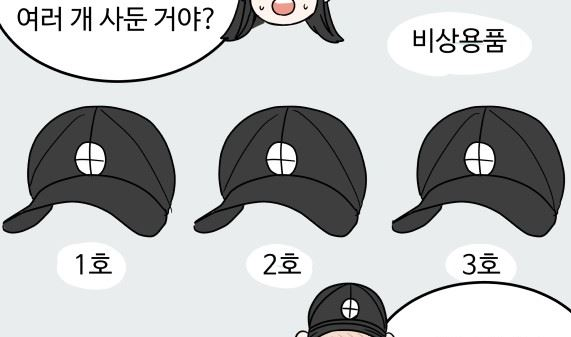hat: (3, 105, 175, 239), (307, 280, 388, 337)
